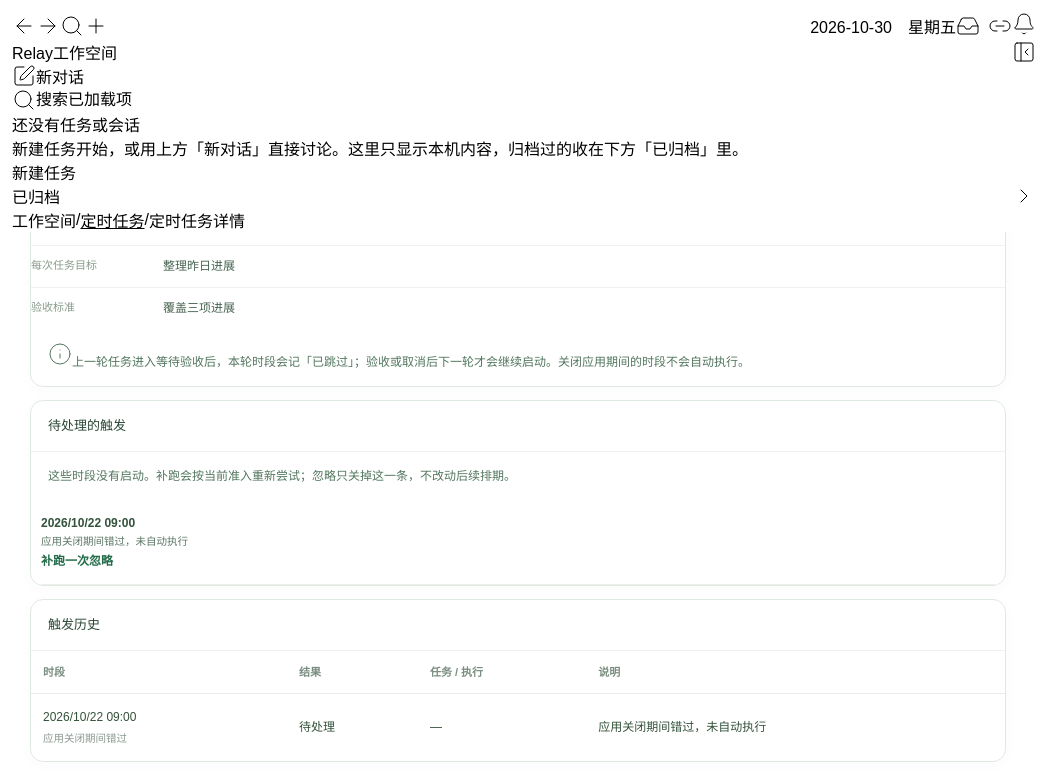
Test: 定时任务状态与时段处理的命令恢复 › 详情回执对象不匹配时不放行：仍停留在待核对且不发送新命令
(page scrolled)
What coordinates should you click on to do the following:
click the button "补跑一次"
I would click on:
 (65, 561)
Its box is [41,551,89,572].
(page scrolled)
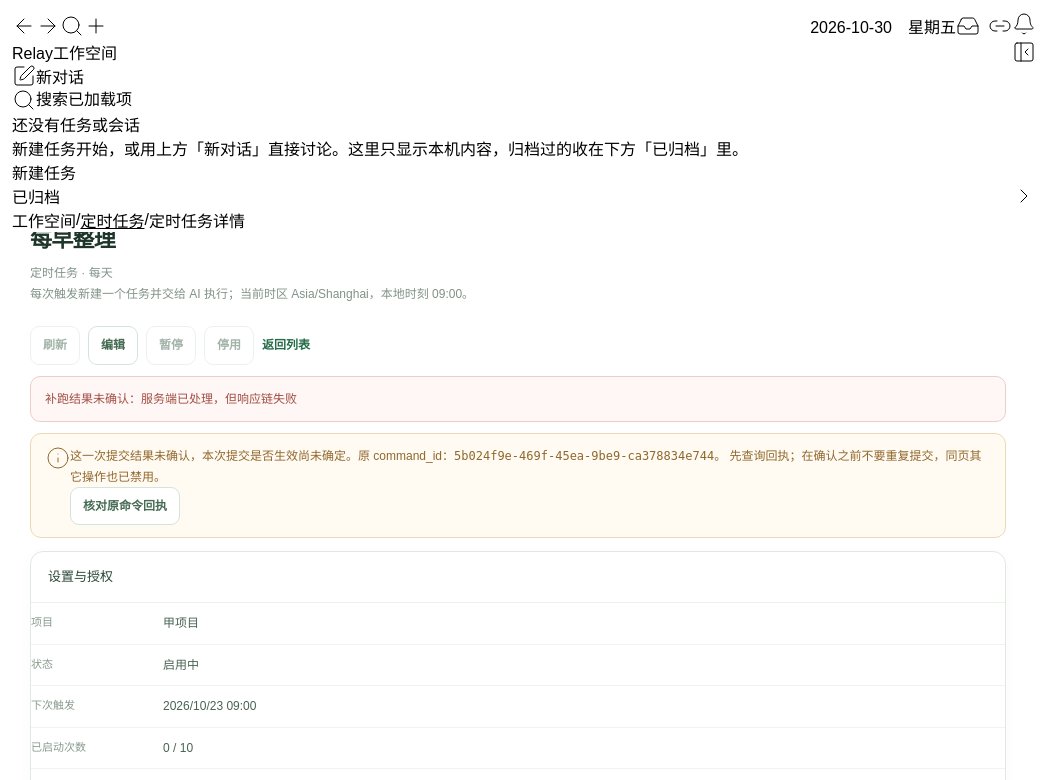
Check: the button "核对原命令回执" is shown
What coordinates should you click on to do the following:
click the button "核对原命令回执"
I would click on:
 (125, 506)
Its box is [70,487,180,525].
(page scrolled)
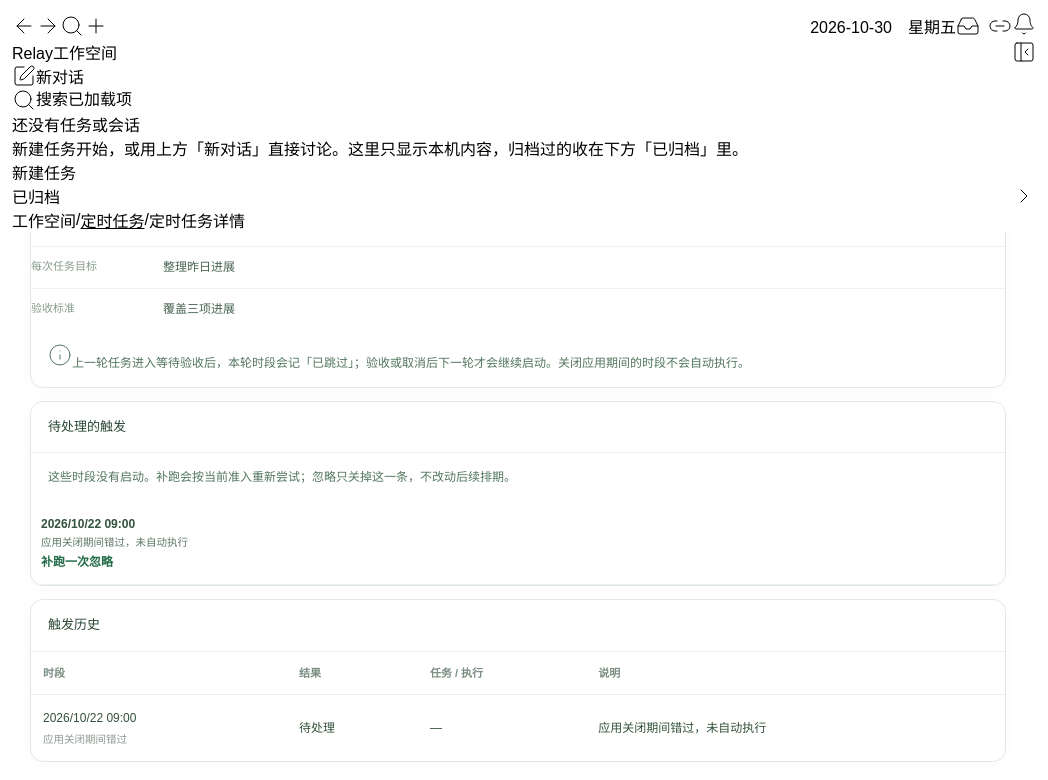
Check: the button "补跑一次" is disabled, box [41,552,89,572]
